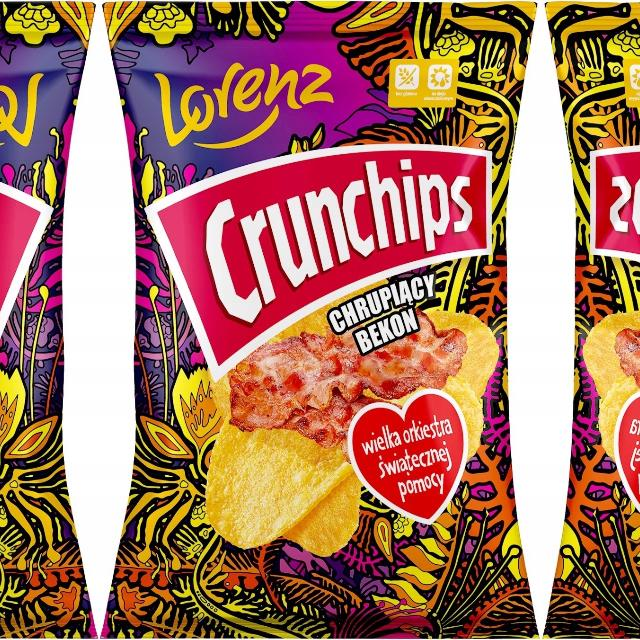crunchips: (144, 145, 492, 383)
